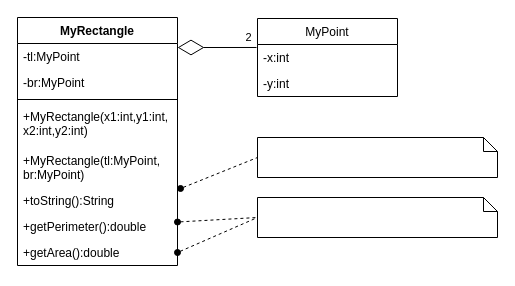
This 515x286 diagram has some shape labels left out. The centre of each missing label's shape, as x and y in pixels:
"MyRectangle[tl=(x1,y1),br=(x2,y2)]": the point at 377,157
Use MyPoint's distance() method: the point at 377,217
